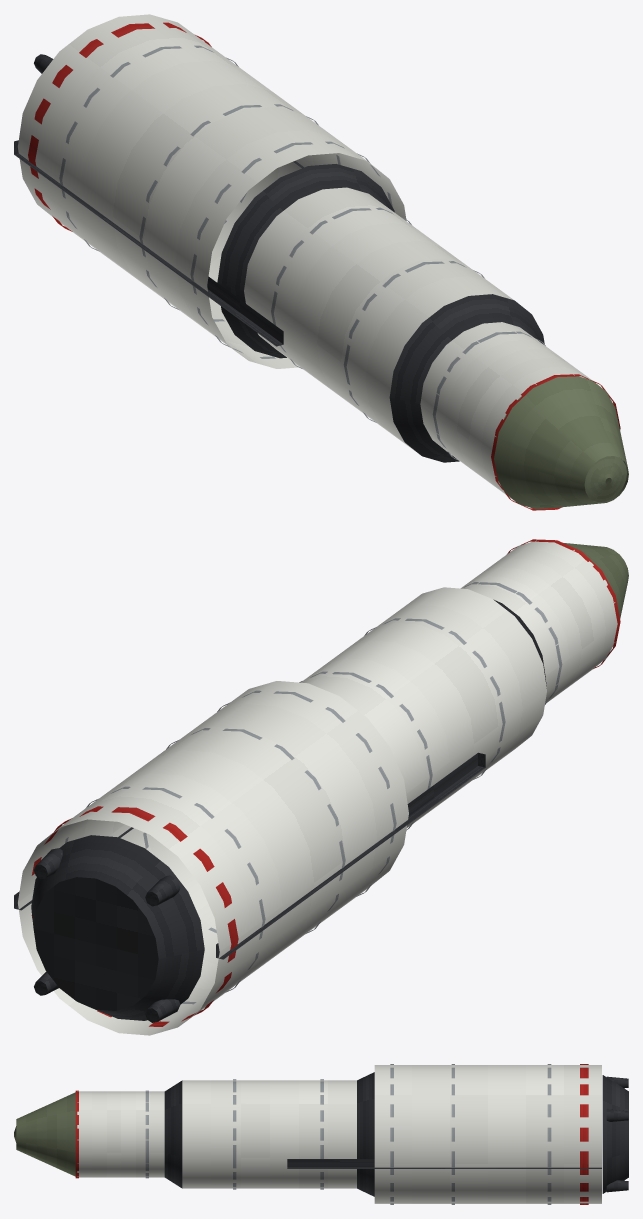
The model's file is missile_icbm_he.glb.
The picture shows the model from 3 angles, top to bottom: view 1: azimuth 30°, elevation 25°; view 2: azimuth 150°, elevation 25°; view 3: azimuth 270°, elevation 25°; orthographic projection. The views are drawn at different scales.
Parts seen in each view (by area): view 1: body; view 2: body; view 3: body.
Part boxes in pixels (<box>): body: <box>14,14,628,510</box>; body: <box>14,539,628,1035</box>; body: <box>14,1064,628,1204</box>.
Size of the model in its own units: 1.66 by 1.61 by 7.04.
1 material, 1 textured.
